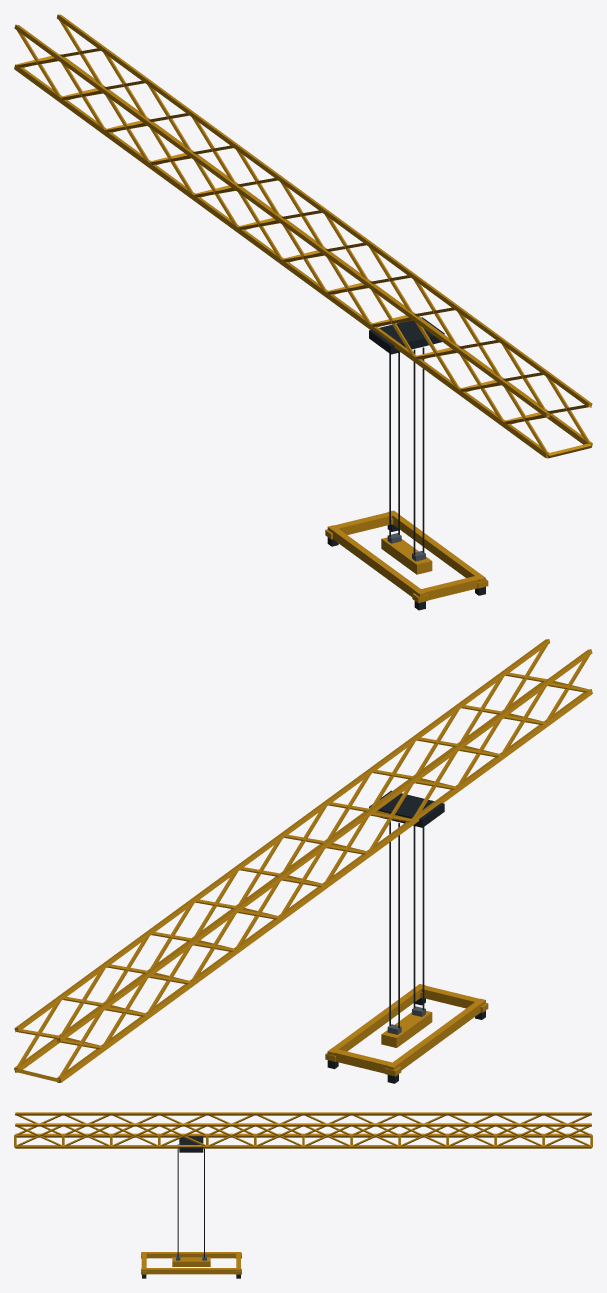
Rendered from SeaportSystem-02-ShipToShoreGantryCrane-03-CraneTip-1-04.glb.
3 renders of one model, top to bottom at view 1: azimuth 30°, elevation 25°; view 2: azimuth 150°, elevation 25°; view 3: azimuth 270°, elevation 25°, orthographic. The views are drawn at different scales.
Parts seen in each view (by area): view 1: SeaportSystem-02-ShipToShoreGantryCrane-03-CraneTip-1-04; view 2: SeaportSystem-02-ShipToShoreGantryCrane-03-CraneTip-1-04; view 3: SeaportSystem-02-ShipToShoreGantryCrane-03-CraneTip-1-04.
Part boxes in pixels (box(x1,y1,x2,y2)): SeaportSystem-02-ShipToShoreGantryCrane-03-CraneTip-1-04: box(14, 14, 592, 610); SeaportSystem-02-ShipToShoreGantryCrane-03-CraneTip-1-04: box(14, 639, 592, 1083); SeaportSystem-02-ShipToShoreGantryCrane-03-CraneTip-1-04: box(14, 1112, 592, 1278).
Size of the model in its own units: 5.5 by 20.9 by 72.33.
